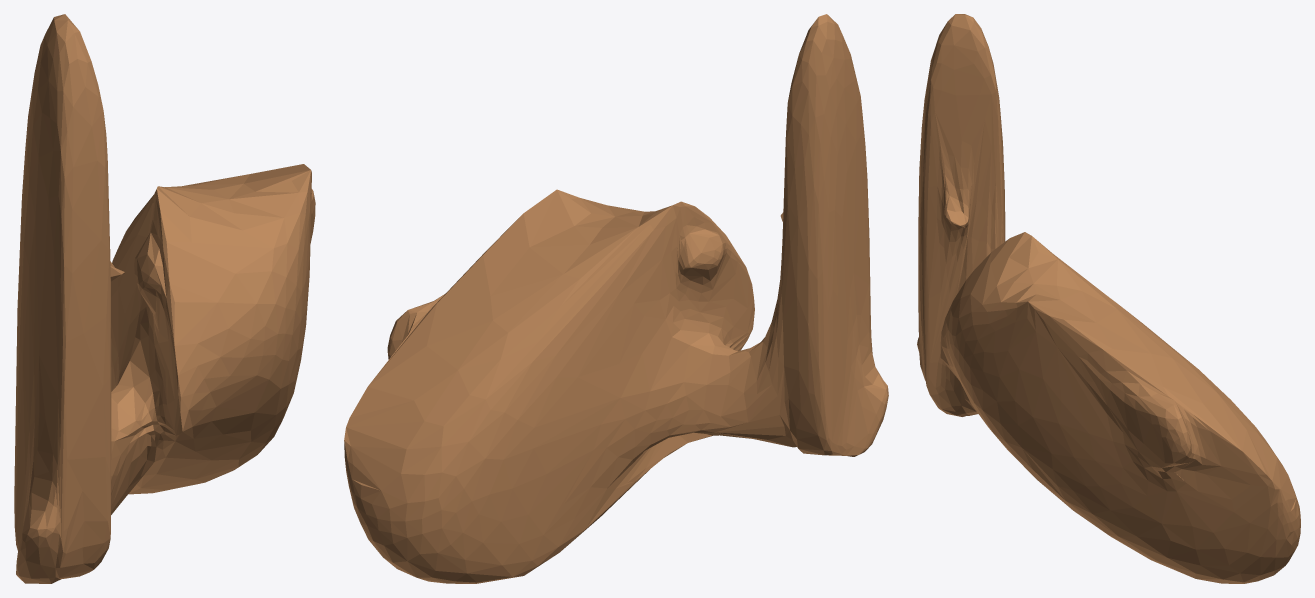
3 views of the same model, side by side, from view 1: azimuth 30°, elevation 25°; view 2: azimuth 150°, elevation 25°; view 3: azimuth 270°, elevation 25° (orthographic). The views are drawn at different scales.
Parts seen in each view (by area): view 1: 429_Cube.1743; view 2: 429_Cube.1743; view 3: 429_Cube.1743.
Part boxes in pixels (x1,y1,x2,y2): 429_Cube.1743: [14, 14, 315, 583]; 429_Cube.1743: [344, 14, 888, 583]; 429_Cube.1743: [917, 14, 1300, 583].
Size of the model in its own units: 9.83 by 13.27 by 9.93.
